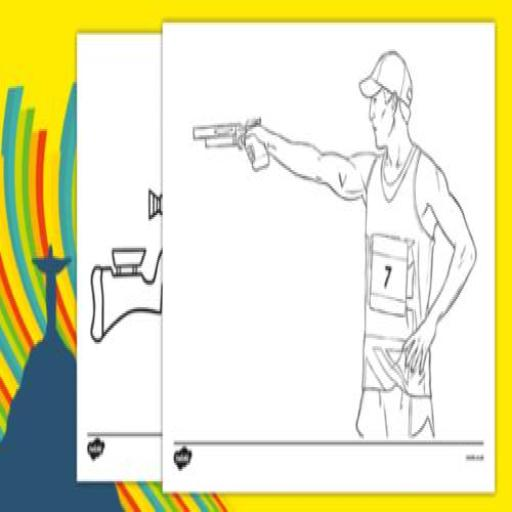shooting: (238, 47, 479, 447)
